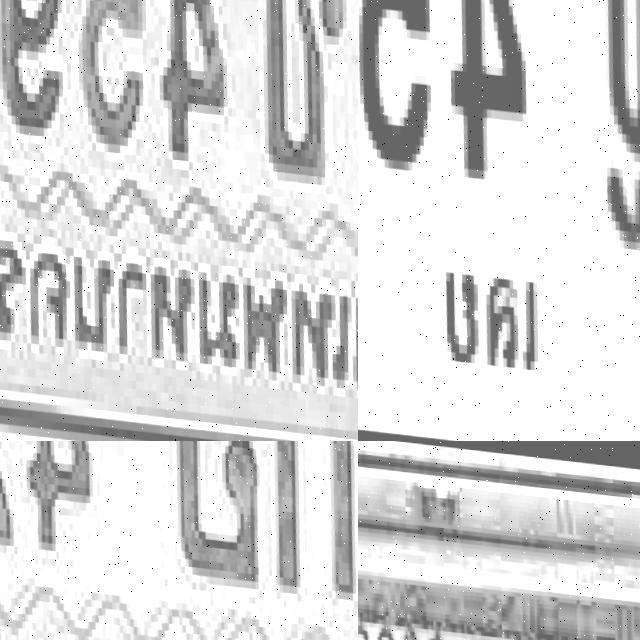license-plate: (0, 0, 358, 441), (358, 0, 640, 441), (0, 441, 358, 640)
